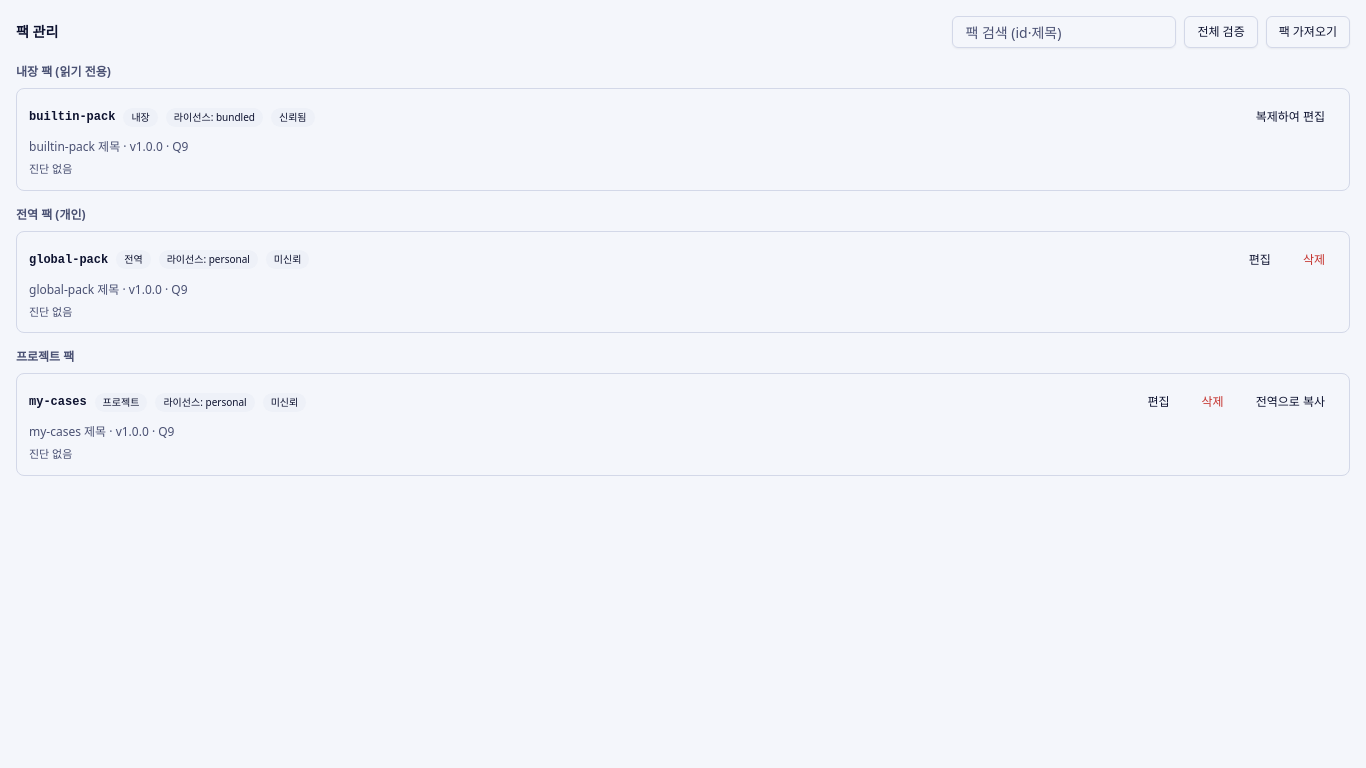
Scenario: PackManager › surfaces load failures from validate-all as error diagnostics
Click the button "전체 검증" at [1221, 32], box [1184,16,1258,48]
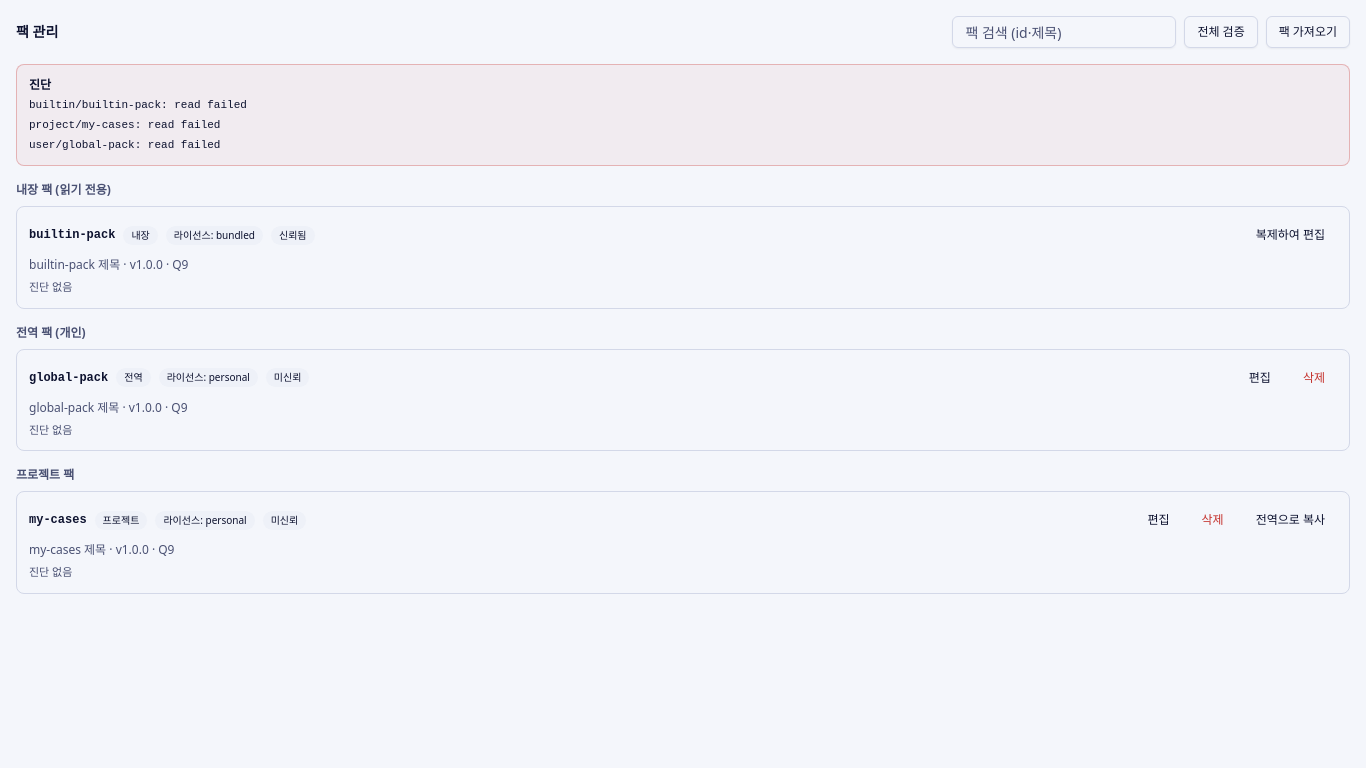
expect the text "builtin/builtin-pack: read failed" is shown: met, box [29,99,247,111]
